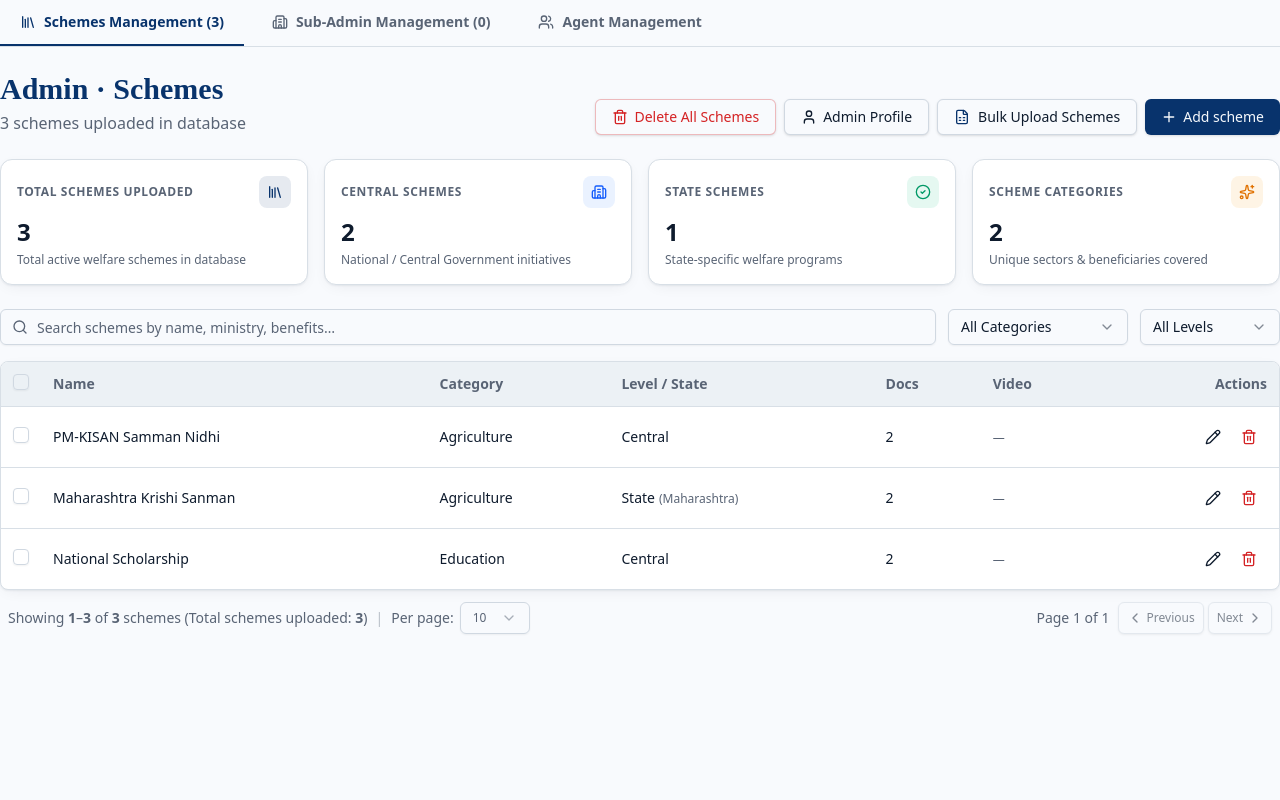
Scenario: Admin Bulk Delete Schemes Functionality › shows only delete selected schemes options in the confirmation popup when clicking delete selected
The width and height of the screenshot is (1280, 800).
Step 1. Click the checkbox with test id "select-scheme-scheme-1" → coordinates (21, 435), box [13,427,29,443]
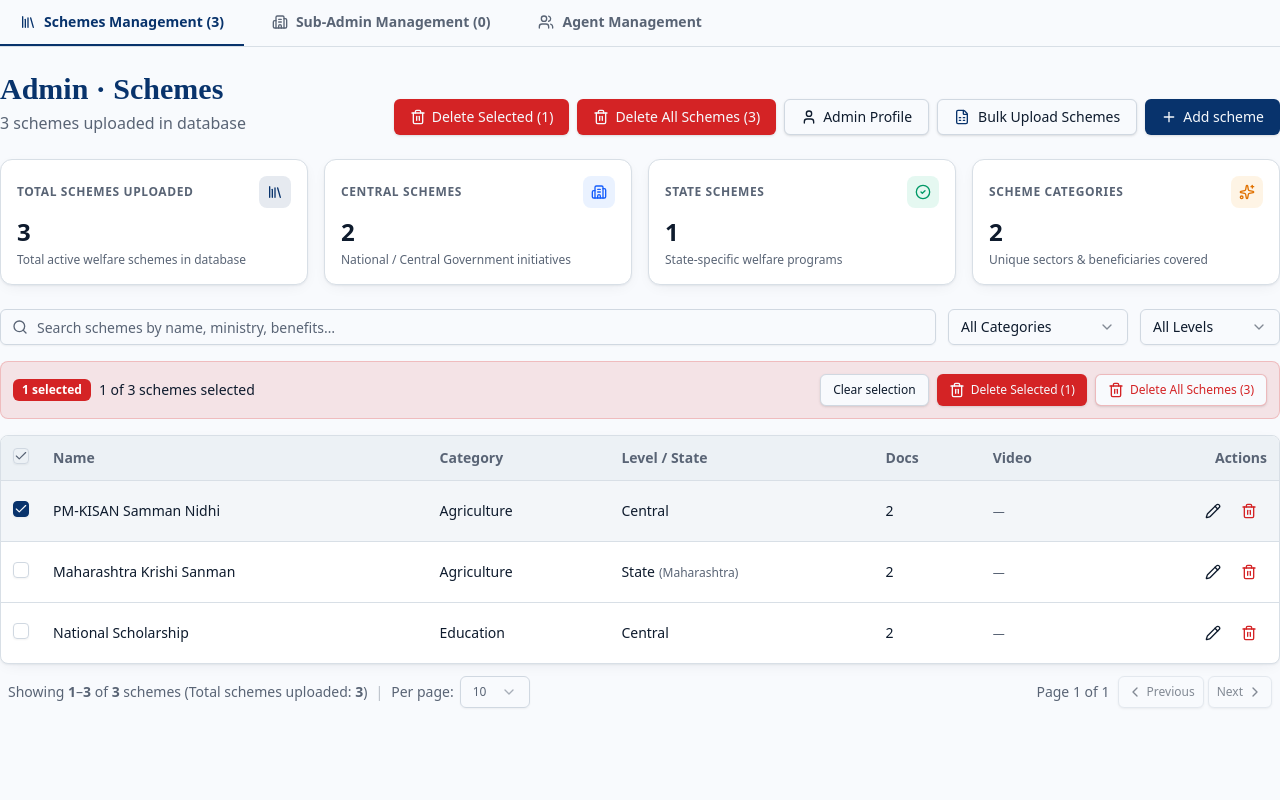
Step 2. Click the button with test id "bulk-delete-button" → coordinates (1012, 390), box [937,374,1087,406]
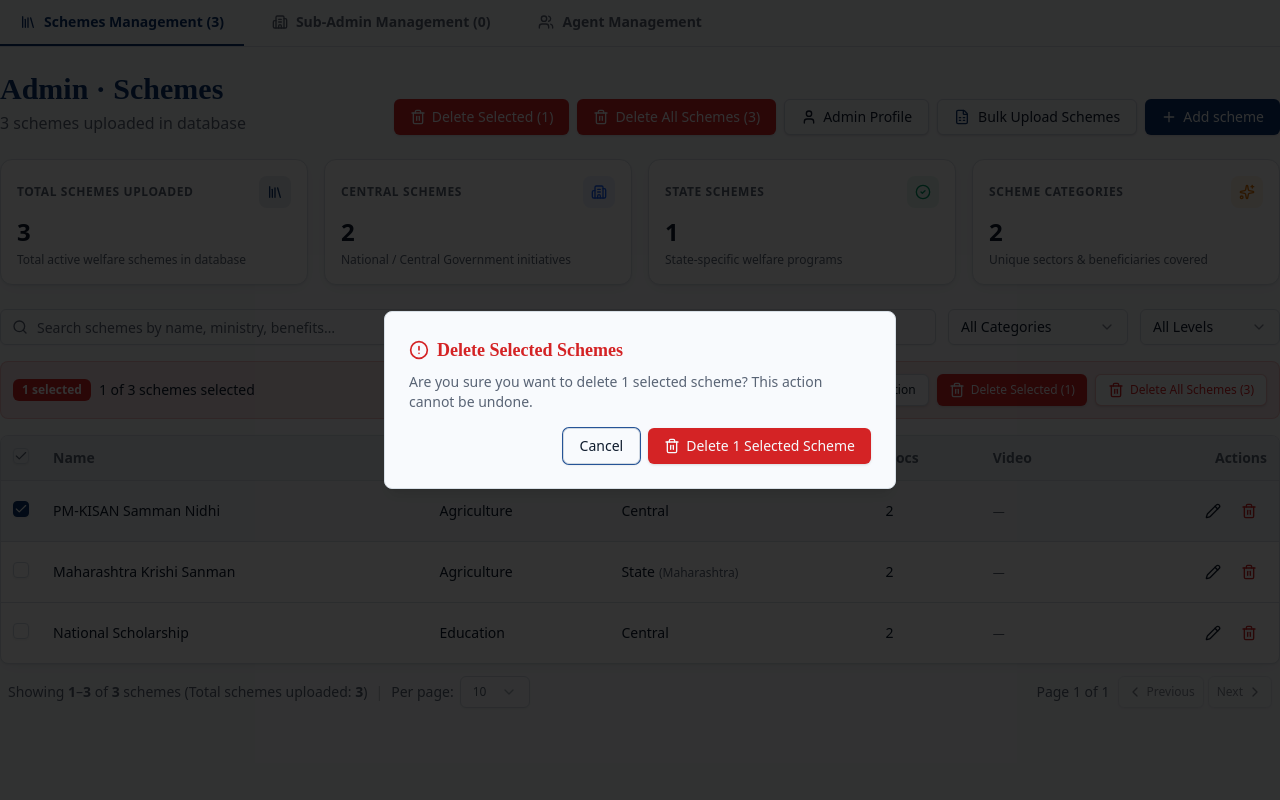
Result: the heading "Delete Selected Schemes" is shown at [409,340,623,360]
Result: the button with test id "confirm-bulk-delete-button" reads "Delete 1 Selected Scheme" at [648,428,871,464]
